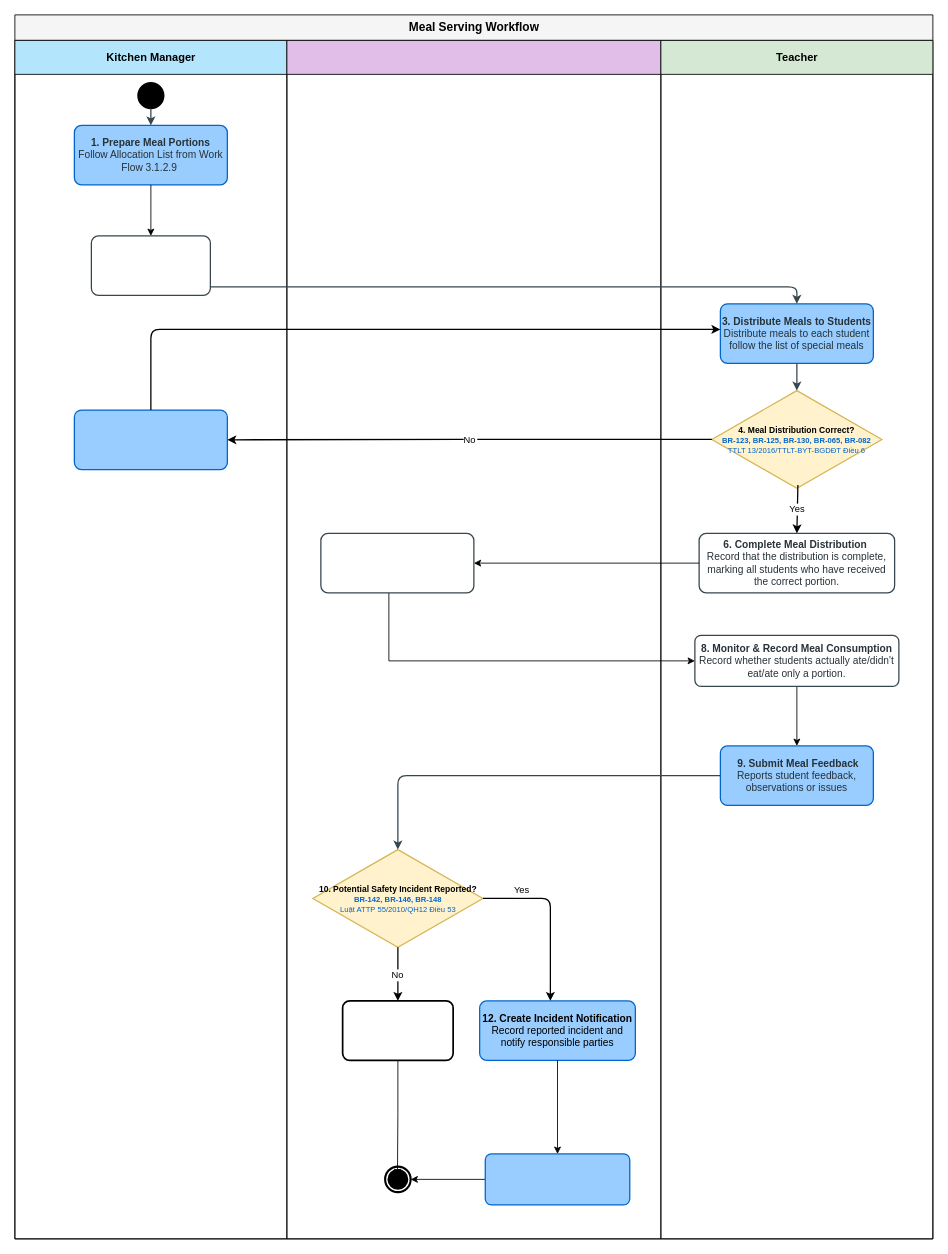
This 948x1254 diagram has some shape labels left out. The shapes that lost their labels are listed below. From the top down, each one's box as (x1, y1, x2, y2) in pixels, then its label:
(90, 235, 211, 296): 2. Deliver Meals to Classrooms Delivering meals to each classroom.
(73, 409, 228, 470): 5. Correct Error Staff replaces or corrects the meal assignment
(320, 532, 474, 593): 7. Record Serving Info Record service time, staff, quantity
(286, 40, 661, 1239): SFMS
(341, 1000, 454, 1061): 11. Complete Service Meal distribution is completed successfully
(484, 1153, 630, 1205): 13. Transfer to WF 3.1.2.12. Incident Handling Workflow
